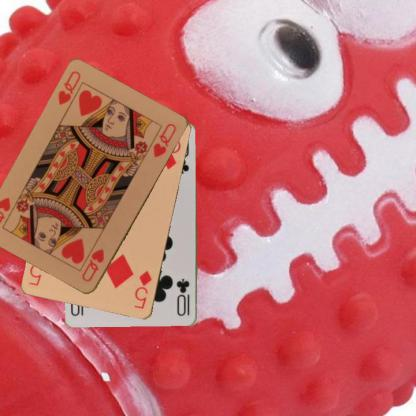10c: (174, 276, 191, 318)
5d: (132, 268, 153, 311)
Qh: (55, 68, 82, 107), (79, 246, 106, 284)
